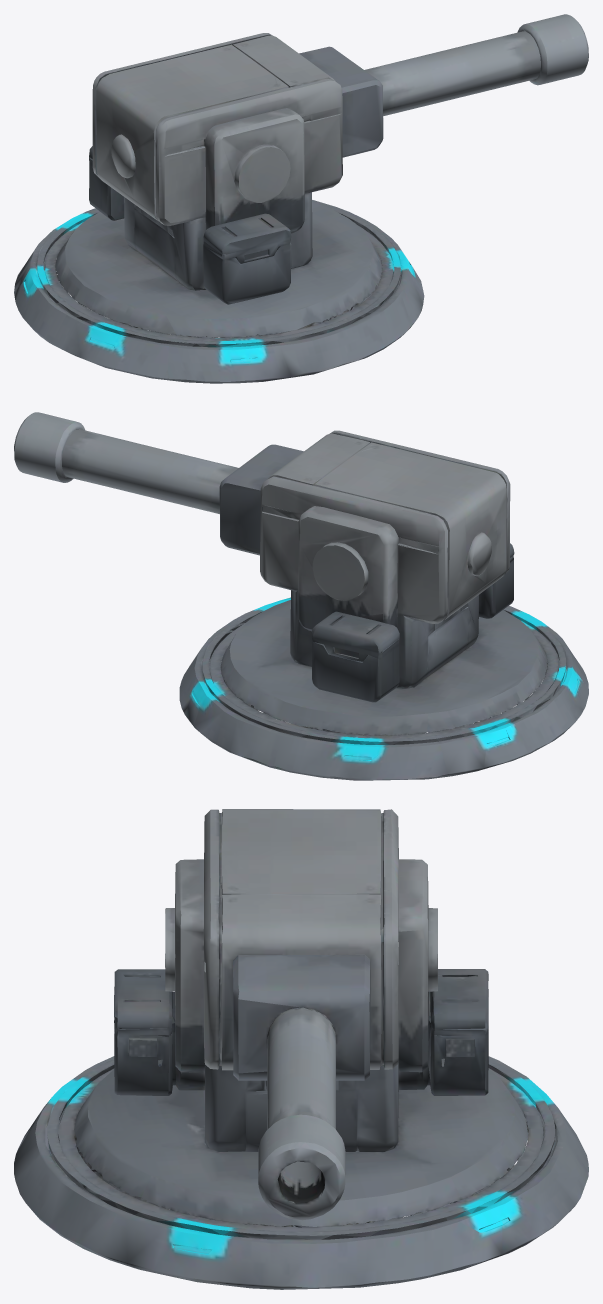
File: town-cannon-light.glb
3 renders of one model, top to bottom at view 1: azimuth 30°, elevation 25°; view 2: azimuth 150°, elevation 25°; view 3: azimuth 270°, elevation 25°, orthographic. The views are drawn at different scales.
Parts seen in each view (by area): view 1: town-cannon-light; view 2: town-cannon-light; view 3: town-cannon-light.
Boxes of the visible parts, x1,y1,x2,y2 form: town-cannon-light: (14,14,588,383); town-cannon-light: (14,412,588,780); town-cannon-light: (14,809,588,1289).
Size of the model in its own units: 4.48 by 1.78 by 3.03.
1 material, 1 textured.
